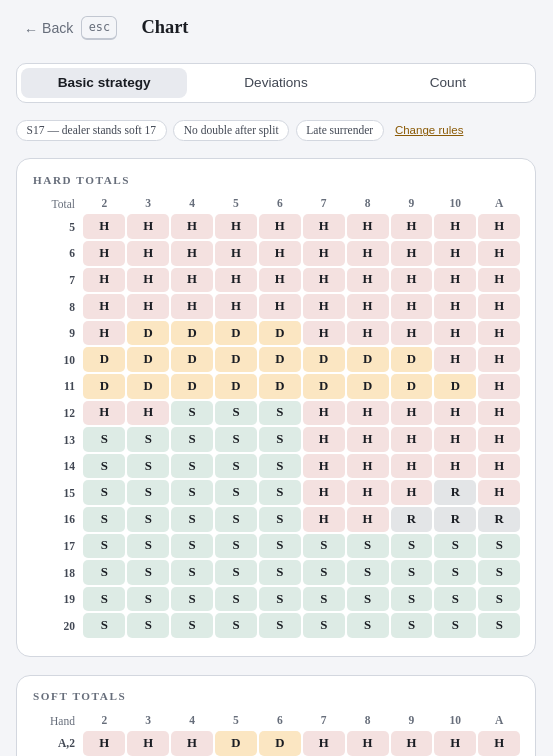
it: ChartPageComponent › the deviation list › drops the notice once the table deals surrender
Step 1. Click the button with class "chart__mode" showing "Deviations" → (276, 83), box [193, 68, 359, 98]
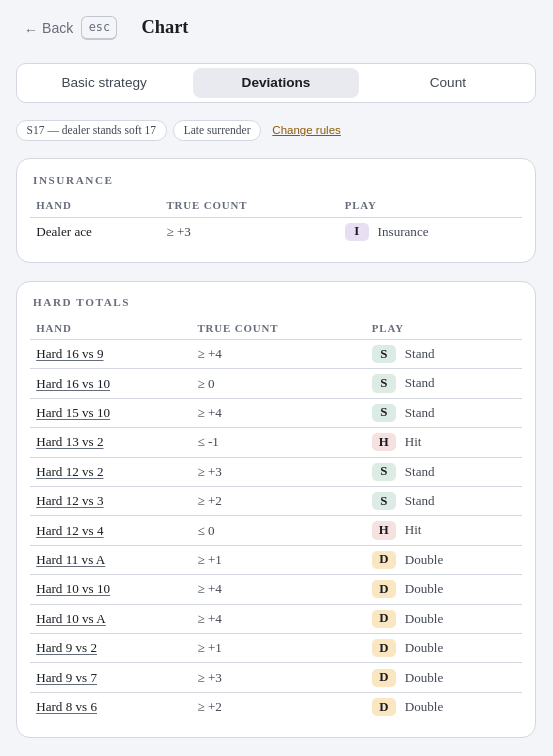
Check: the table with class "chart__table--rules" that starts with "Insurance" is shown, box [30, 174, 522, 246]
